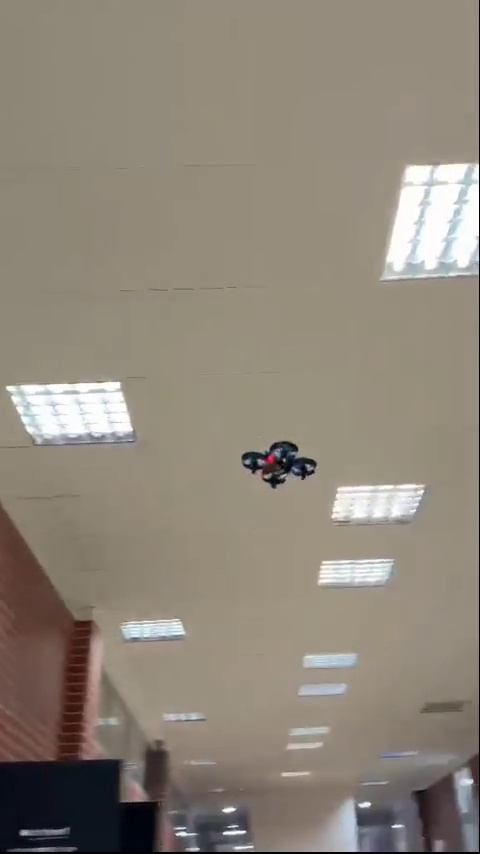drone: (245, 436, 315, 490)
